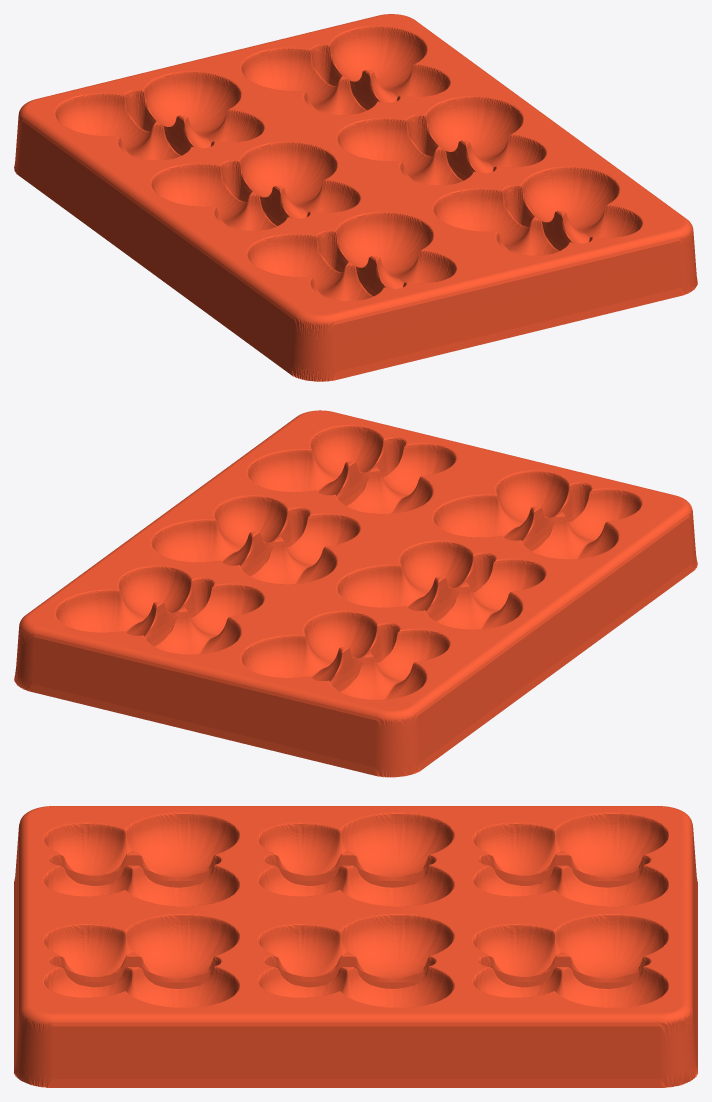
Rendered from mold.glb.
The picture shows the model from 3 angles, top to bottom: view 1: azimuth 30°, elevation 25°; view 2: azimuth 150°, elevation 25°; view 3: azimuth 270°, elevation 25°; orthographic projection. The views are drawn at different scales.
Visible parts, largest first — view 1: geometry_0; view 2: geometry_0; view 3: geometry_0.
Boxes of the visible parts, x1,y1,x2,y2 form: geometry_0: (14, 14, 697, 381); geometry_0: (14, 410, 697, 777); geometry_0: (14, 806, 697, 1087).
Bounding box in the file's own units: 0.1211 × 0.0175 × 0.1595.
